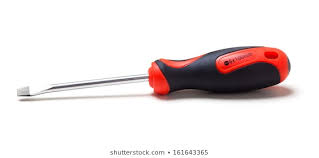screwdriver: (8, 47, 292, 109)
